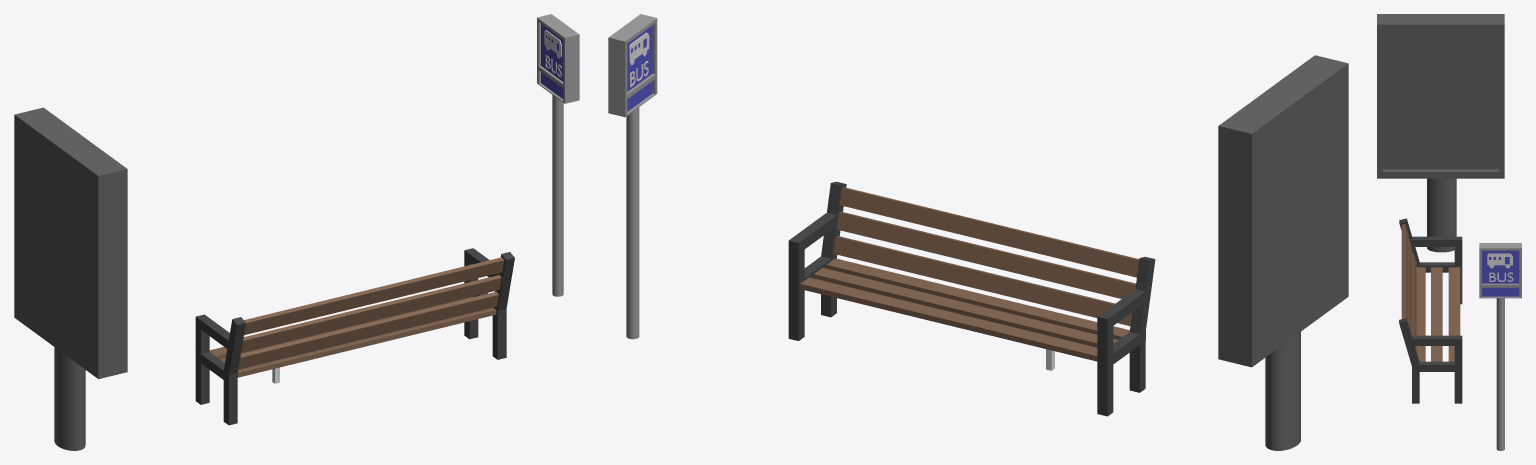
File: bushalte.fbx
3 renders of one model, left to right at view 1: azimuth 30°, elevation 25°; view 2: azimuth 150°, elevation 25°; view 3: azimuth 270°, elevation 25°, orthographic. The views are drawn at different scales.
Visible parts, largest first — view 1: Cube, Cube.006, Cylinder.001, Cylinder, Cube.001, Cube.019; view 2: Cube.006, Cube, Cylinder.001, Cylinder, Cube.001, Cube.019; view 3: Cube, Cube.006, Cylinder.001, Cube.001, Cylinder, Cube.019, Cube.002.
Part boxes in pixels (<box>): Cube: <box>14,107,127,379</box>; Cube.006: <box>195,248,514,425</box>; Cylinder.001: <box>54,347,85,450</box>; Cylinder: <box>552,95,563,296</box>; Cube.001: <box>537,14,579,88</box>; Cube.019: <box>537,68,579,103</box>; Cube.006: <box>788,181,1155,416</box>; Cube: <box>1218,55,1348,367</box>; Cylinder.001: <box>1265,332,1300,450</box>; Cylinder: <box>626,107,639,339</box>; Cube.001: <box>608,14,657,99</box>; Cube.019: <box>608,77,657,117</box>; Cube: <box>1377,14,1504,178</box>; Cube.006: <box>1399,218,1462,403</box>; Cylinder.001: <box>1427,178,1456,252</box>; Cube.001: <box>1479,243,1521,286</box>; Cylinder: <box>1496,298,1504,450</box>; Cube.019: <box>1479,286,1521,298</box>; Cube.002: <box>1487,253,1512,265</box>.
Size of the model in its own units: 226 by 122 by 68.14.
